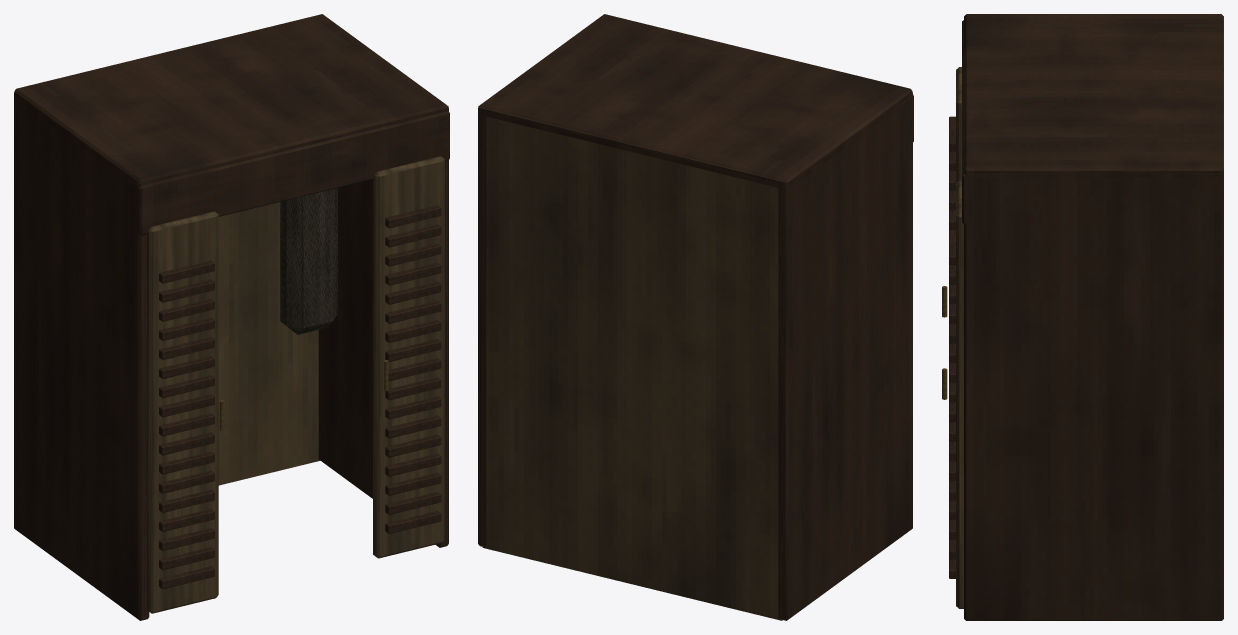
File: level_hiding_cupboard_worn.glb
3 views of the same model, side by side, from view 1: azimuth 30°, elevation 25°; view 2: azimuth 150°, elevation 25°; view 3: azimuth 270°, elevation 25° (orthographic). The views are drawn at different scales.
Parts seen in each view (by area): view 1: level_hiding_cupboard_worn; view 2: level_hiding_cupboard_worn; view 3: level_hiding_cupboard_worn.
Part boxes in pixels (x1,y1,x2,y2): level_hiding_cupboard_worn: [14, 14, 449, 620]; level_hiding_cupboard_worn: [478, 14, 913, 620]; level_hiding_cupboard_worn: [942, 14, 1223, 620].
Bounding box in the file's own units: 1.7 × 2.31 × 1.3.
5 materials, 5 textured.
